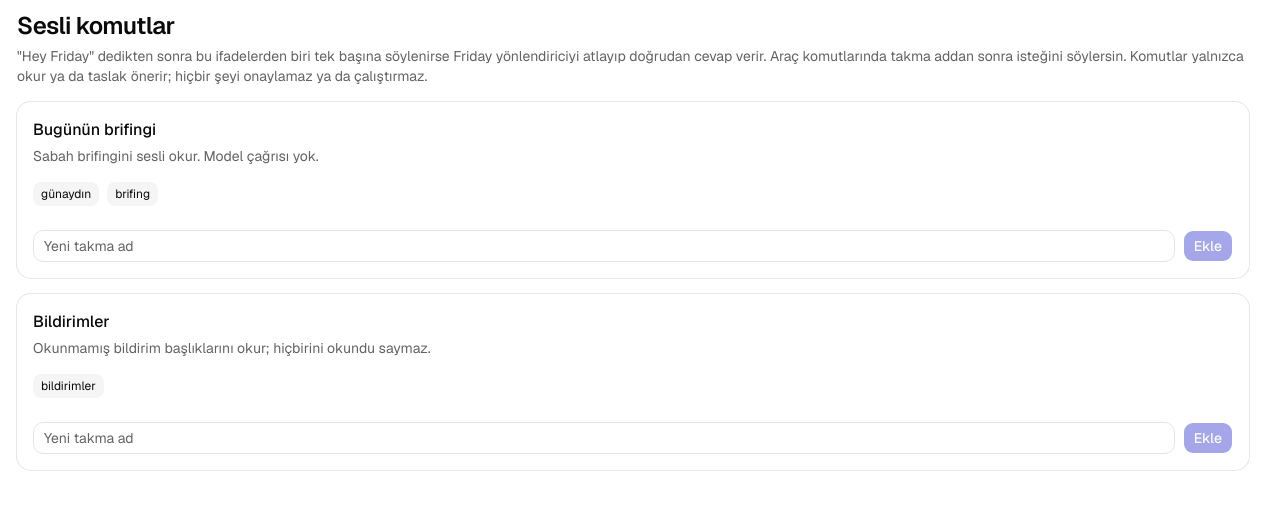
WakeRoutesSettings › adds an alias and reloads
Type "Kahve zamanı" into the field named "Bugünün brifingi için yeni takma ad" at (604, 246), box x1=33 y1=230 x2=1175 y2=262
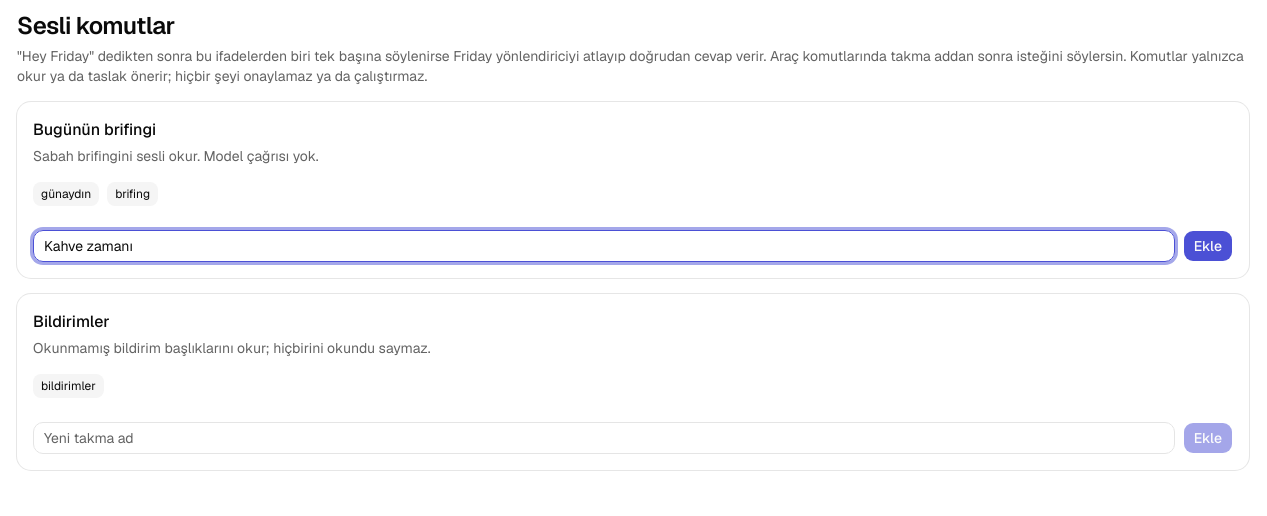
Click the 1st button "Ekle" at (1208, 246), box x1=1183 y1=230 x2=1233 y2=262
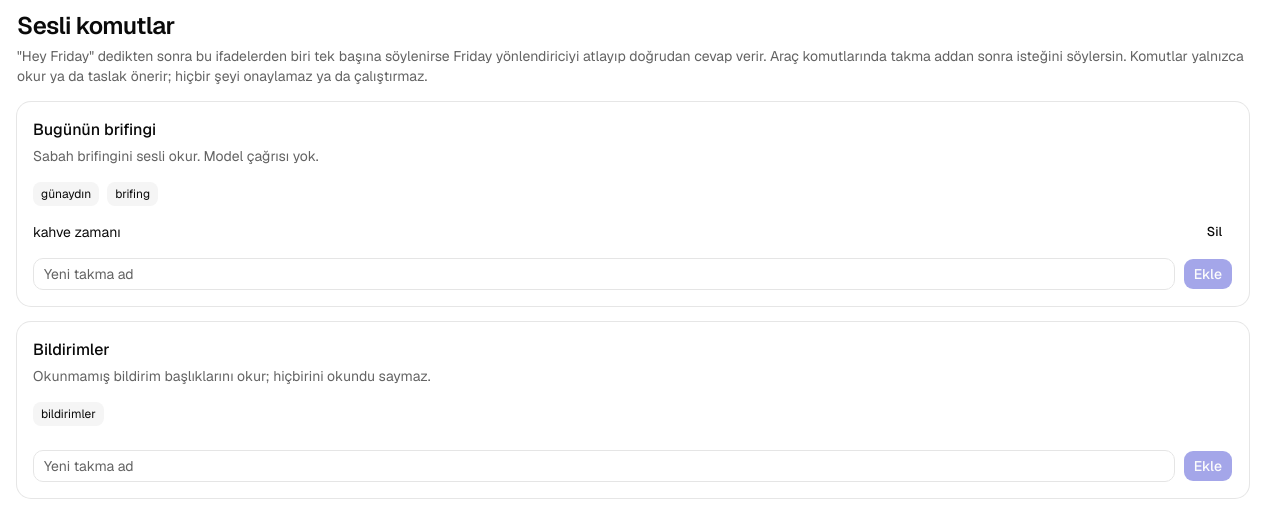
Result: the text "kahve zamanı" is shown at x1=33 y1=222 x2=121 y2=242
